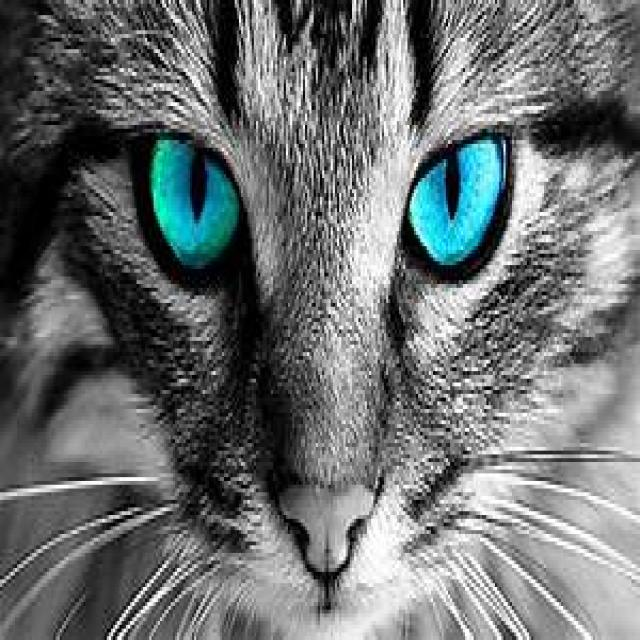cat: (8, 8, 640, 630)
